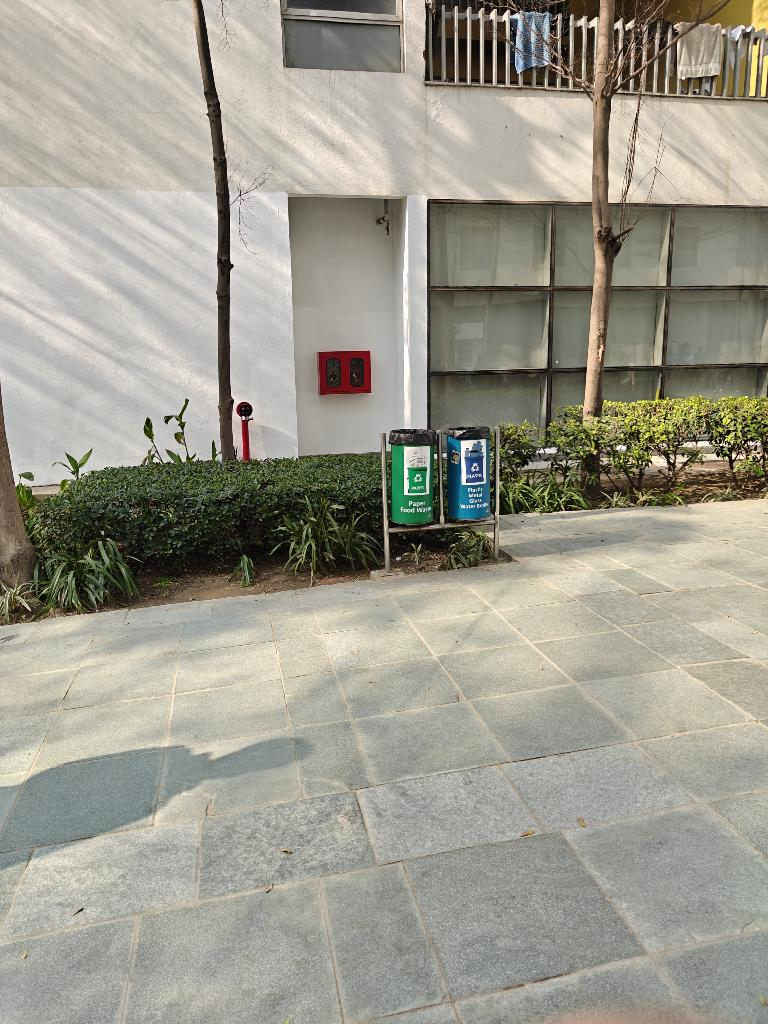dustbin: (375, 422, 509, 578)
